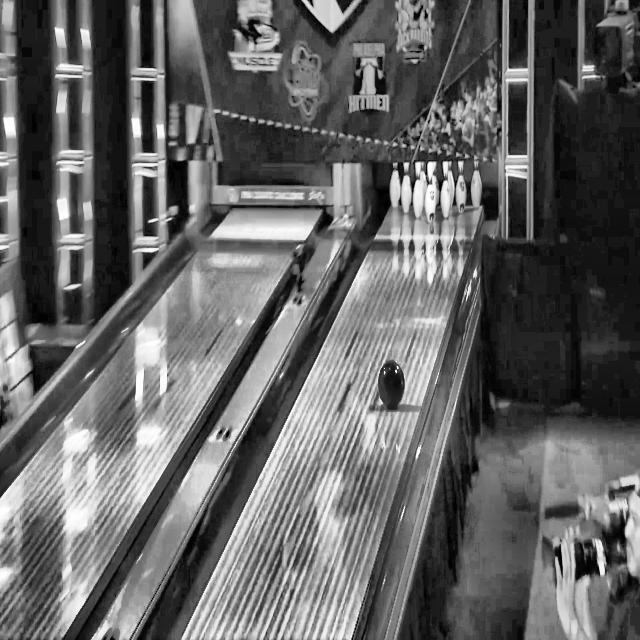bowling-ball: (379, 360, 405, 409)
bowling-pins: (413, 161, 425, 217), (456, 159, 468, 212), (441, 160, 452, 217), (426, 161, 436, 220), (401, 161, 412, 212), (472, 158, 483, 207), (390, 161, 401, 207), (448, 159, 456, 206), (433, 161, 441, 206)
